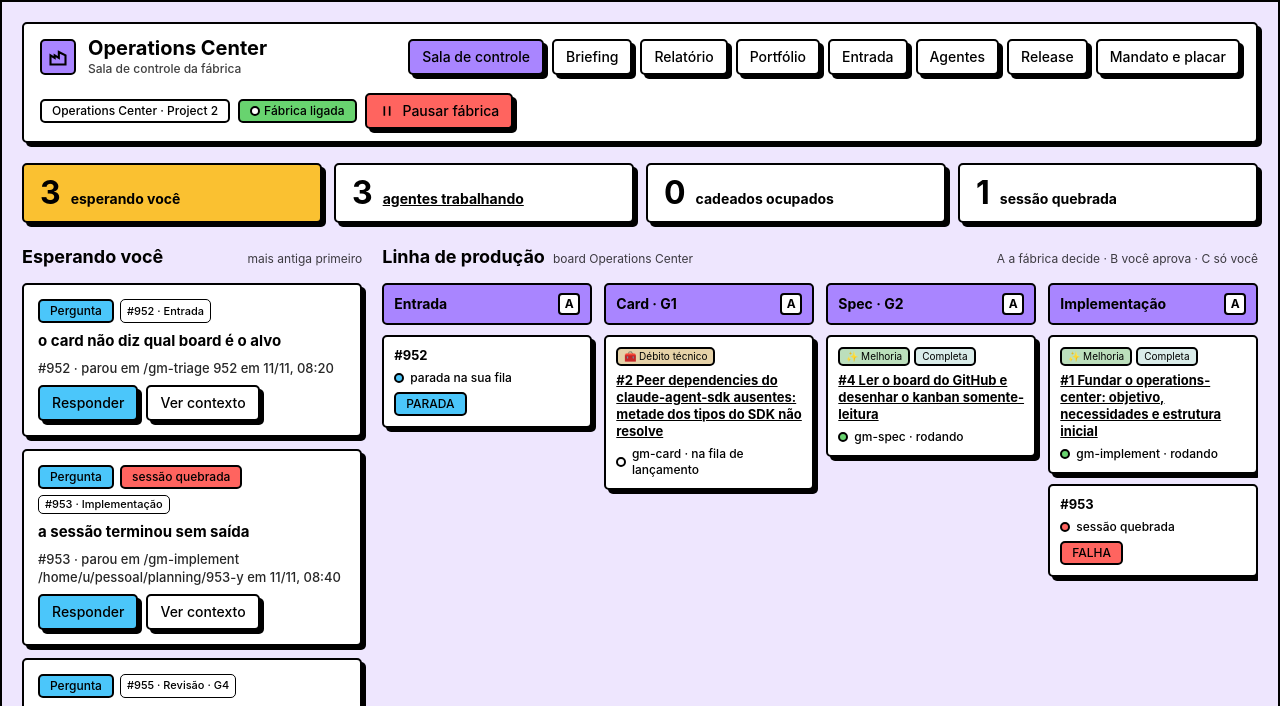
Scenario: Agentes · sessões da fábrica › lista os quatro em voo e os três parados, com a estação e o onde roda
Click the button with test id "fabrica-nav-agentes" at coordinates (957, 56), box [916,38,999,74]
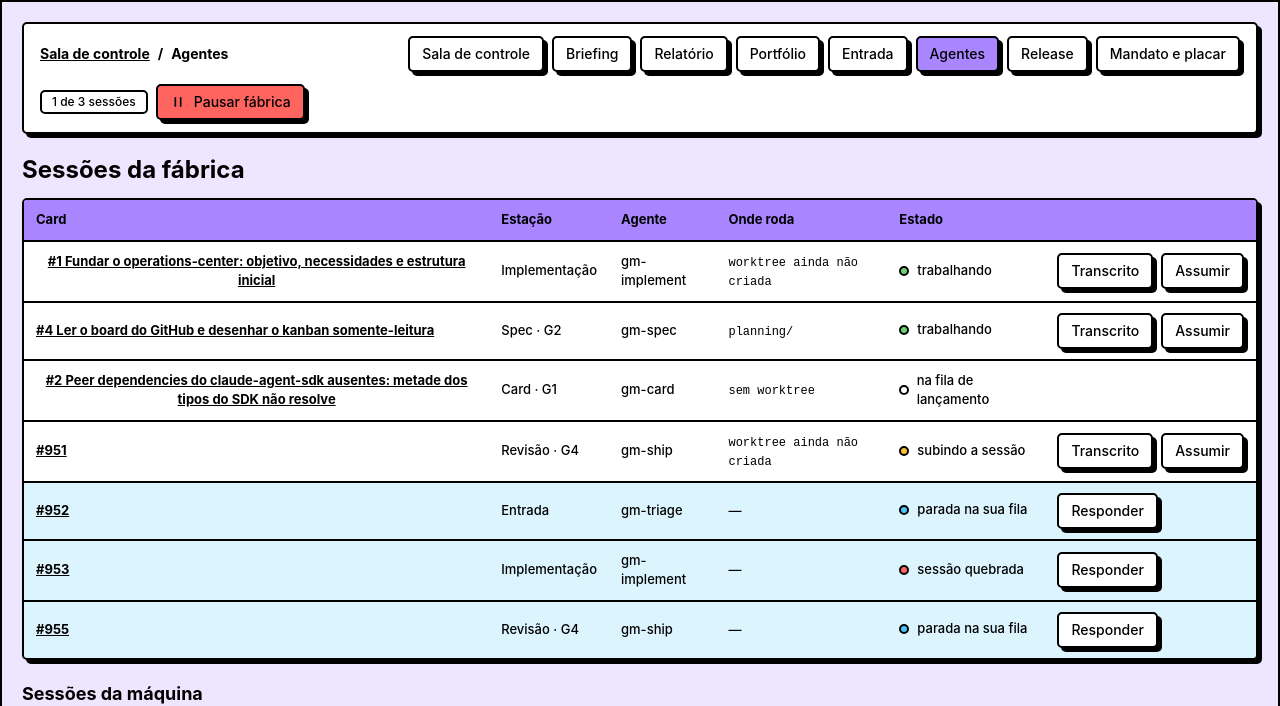
Check: the number of rows with test id "fabrica-agente-parado" is 3, box [24,482,1256,540]; [24,540,1256,600]; [24,600,1256,658]
Check: the cell "Revisão · G4" in the row of "subindo a sessão" is shown, box [501,442,579,458]
Check: the text "sem worktree" is shown, box [728,384,815,398]
